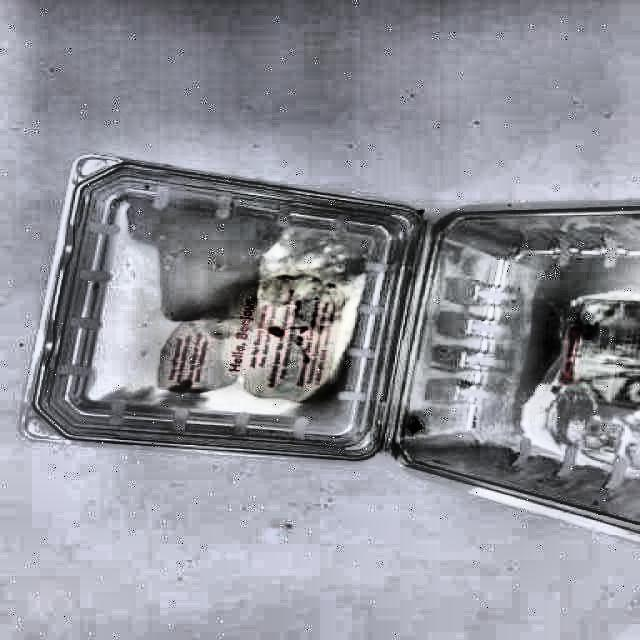plastic: (26, 155, 640, 529)
